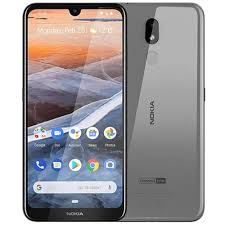nokia: (22, 1, 128, 224), (124, 2, 207, 224)
